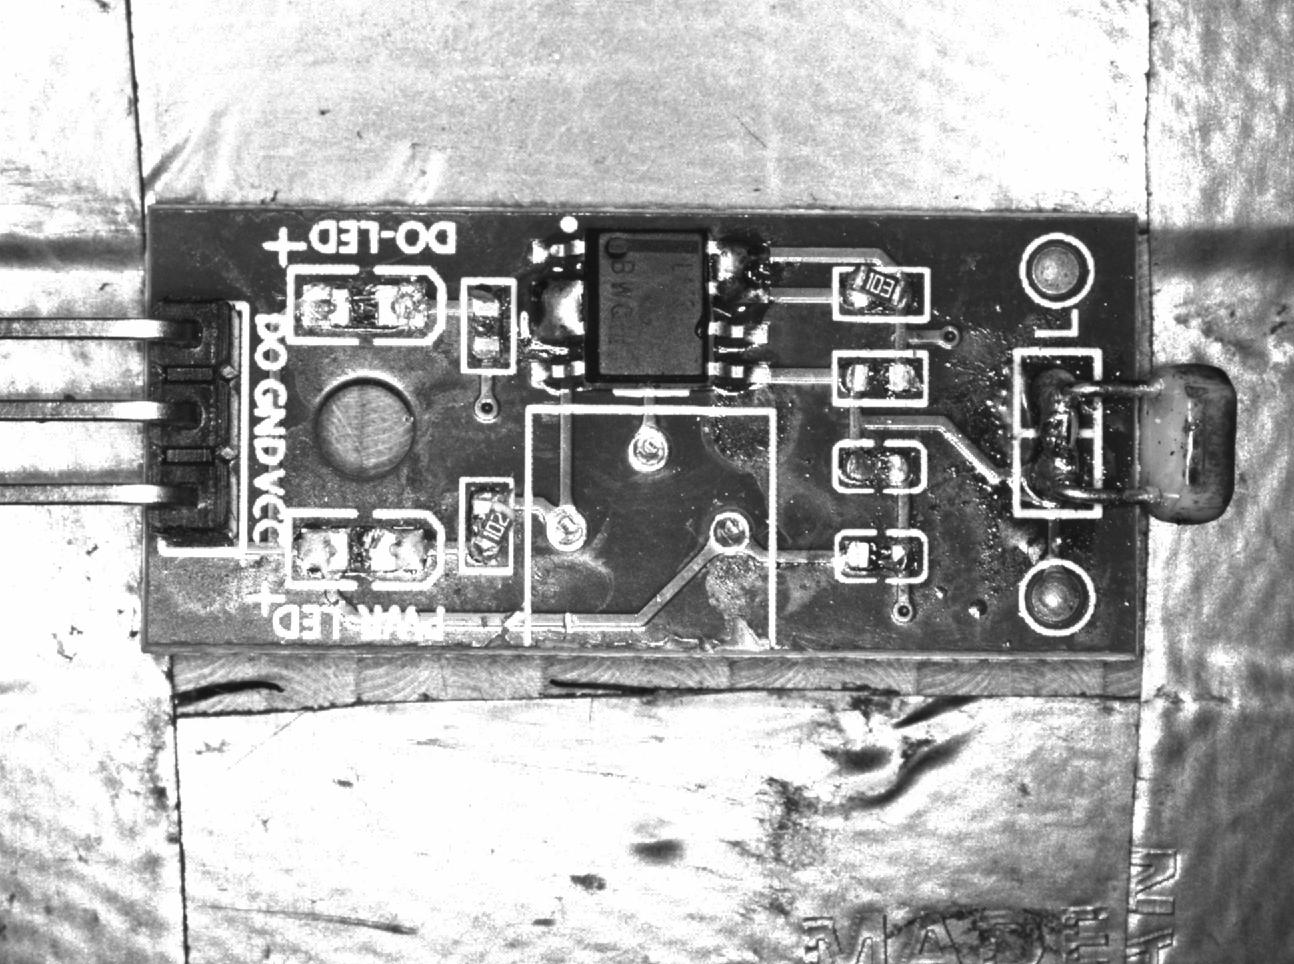bridge: (1018, 348, 1101, 513), (704, 235, 771, 300), (529, 272, 587, 345)
lifted: (460, 477, 517, 577), (832, 266, 926, 320)
miss: (835, 528, 931, 586), (460, 282, 516, 374), (830, 351, 928, 404), (835, 439, 925, 494)
